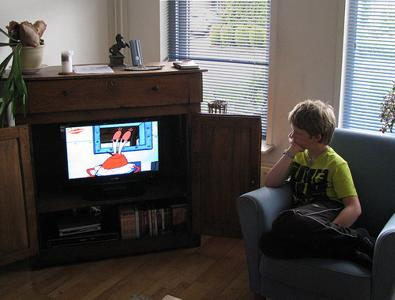person: (264, 99, 376, 270)
